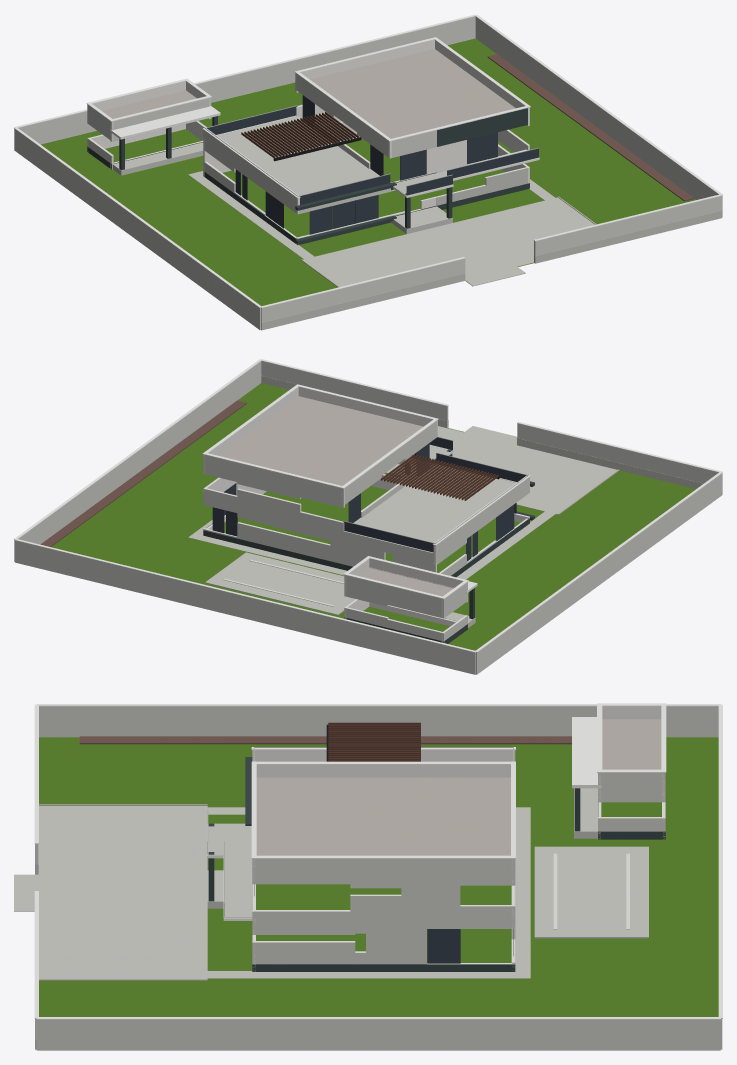
The model's file is est_S1_lod1.glb.
3 renders of one model, top to bottom at view 1: azimuth 30°, elevation 25°; view 2: azimuth 150°, elevation 25°; view 3: azimuth 270°, elevation 25°, orthographic. The views are drawn at different scales.
Parts seen in each view (by area): view 1: GR_est_S1_lod1; view 2: GR_est_S1_lod1; view 3: GR_est_S1_lod1.
Part boxes in pixels (<box>): GR_est_S1_lod1: <box>14,14,722,330</box>; GR_est_S1_lod1: <box>14,359,722,674</box>; GR_est_S1_lod1: <box>14,703,722,1050</box>.
Size of the model in its own units: 52.31 by 10.33 by 49.76.
4 materials, 1 textured.
